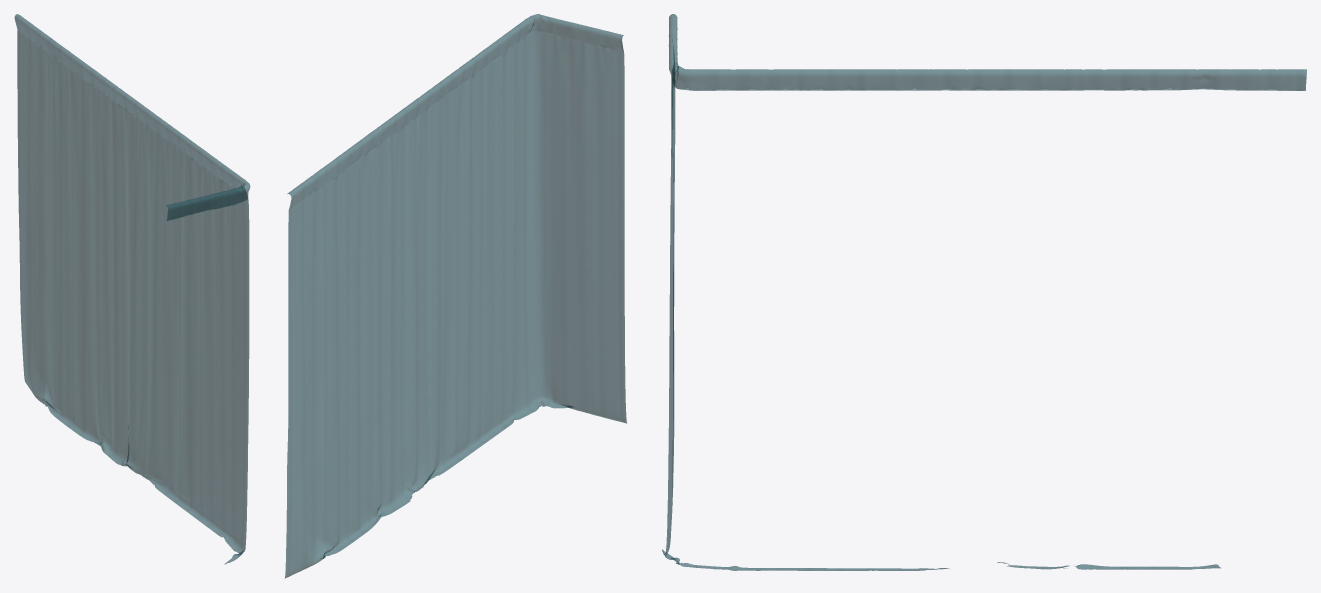
The model's file is SM_CellophaneFilm01.gltf.
The picture shows the model from 3 angles, left to right: view 1: azimuth 30°, elevation 25°; view 2: azimuth 150°, elevation 25°; view 3: azimuth 270°, elevation 25°; orthographic projection. The views are drawn at different scales.
Parts seen in each view (by area): view 1: SM_CellophaneFilm01; view 2: SM_CellophaneFilm01; view 3: SM_CellophaneFilm01.
Part boxes in pixels (x1,y1,x2,y2): SM_CellophaneFilm01: (14,14,250,564); SM_CellophaneFilm01: (284,14,626,578); SM_CellophaneFilm01: (662,14,1306,570).
Size of the model in its own units: 0.8825 by 3.14 by 3.67.
Materials: 1 (1 with a texture image).
